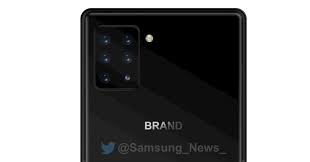samsung: (73, 2, 249, 162)
